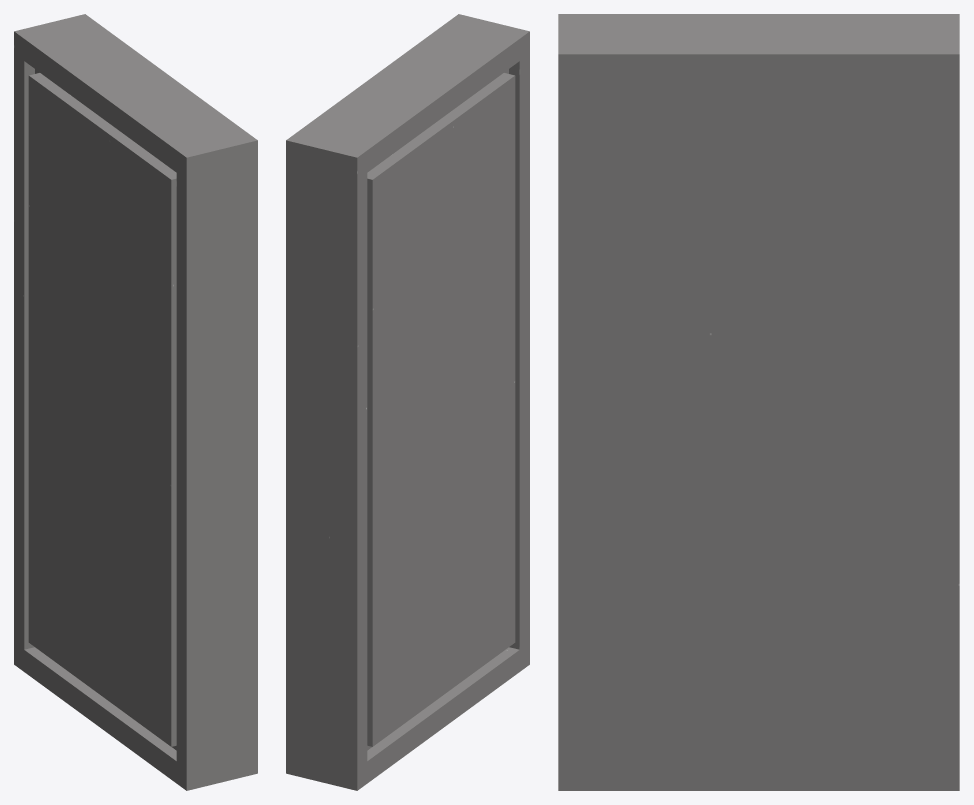
Rendered from Elevator Panel.fbx.
The picture shows the model from 3 angles, left to right: view 1: azimuth 30°, elevation 25°; view 2: azimuth 150°, elevation 25°; view 3: azimuth 270°, elevation 25°; orthographic projection. The views are drawn at different scales.
Parts seen in each view (by area): view 1: Elevator Pannel; view 2: Elevator Pannel; view 3: Elevator Pannel.
Part boxes in pixels (box(x1,y1,x2,y2)): Elevator Pannel: box(14, 14, 257, 790); Elevator Pannel: box(286, 14, 529, 790); Elevator Pannel: box(558, 14, 959, 790).
Bounding box in the file's own units: 4.02 × 34 × 16.8.
